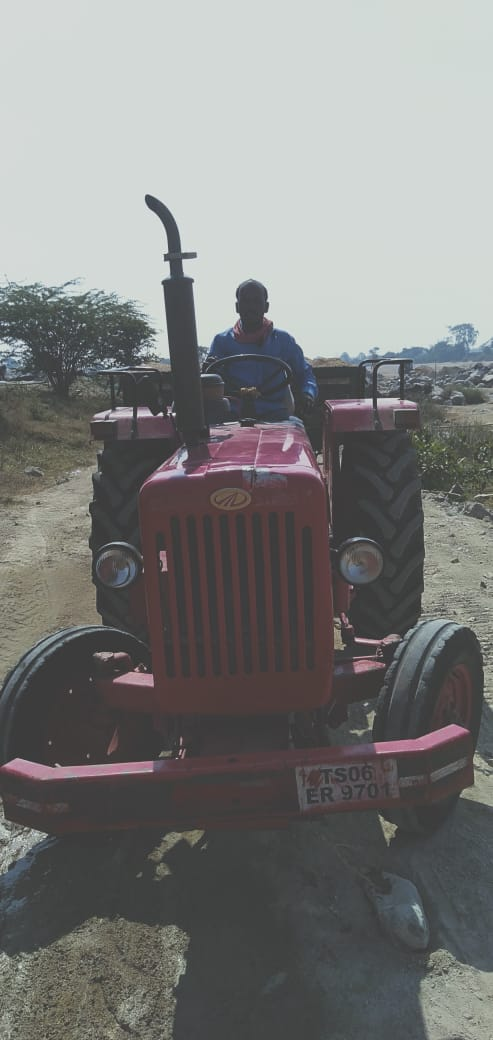num_plate: (290, 759, 409, 811)
